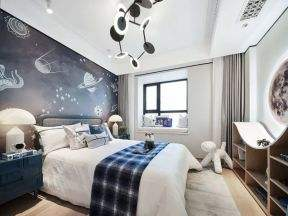床: (31, 139, 205, 212)
枕头: (31, 122, 112, 153)
灯: (109, 1, 165, 68), (1, 106, 37, 154), (107, 113, 123, 137), (42, 5, 54, 16)
